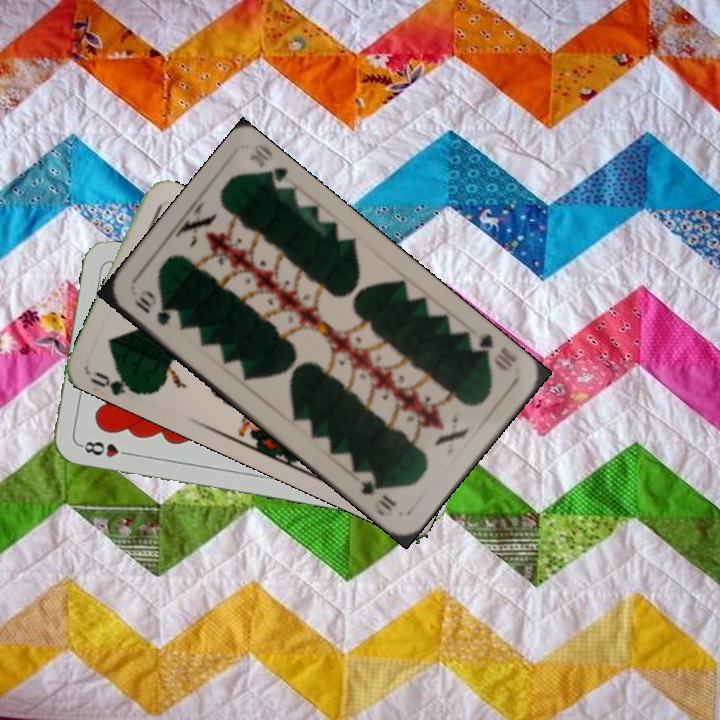G10: (465, 329, 520, 375), (129, 287, 174, 329)
GO: (86, 365, 144, 398)
H8: (76, 437, 135, 460)
